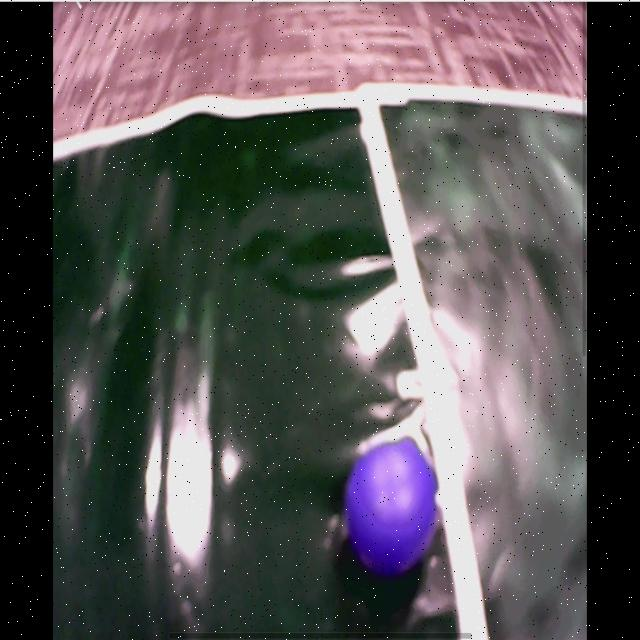ball: (350, 440, 438, 571)
